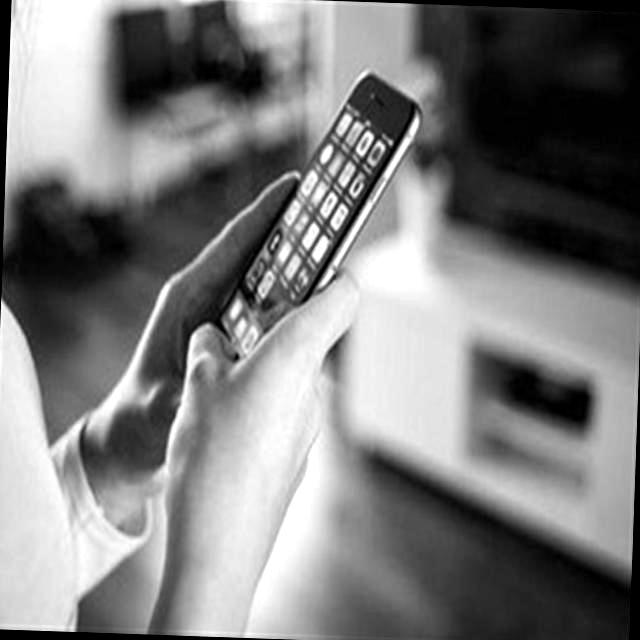phone: (212, 62, 424, 368)
